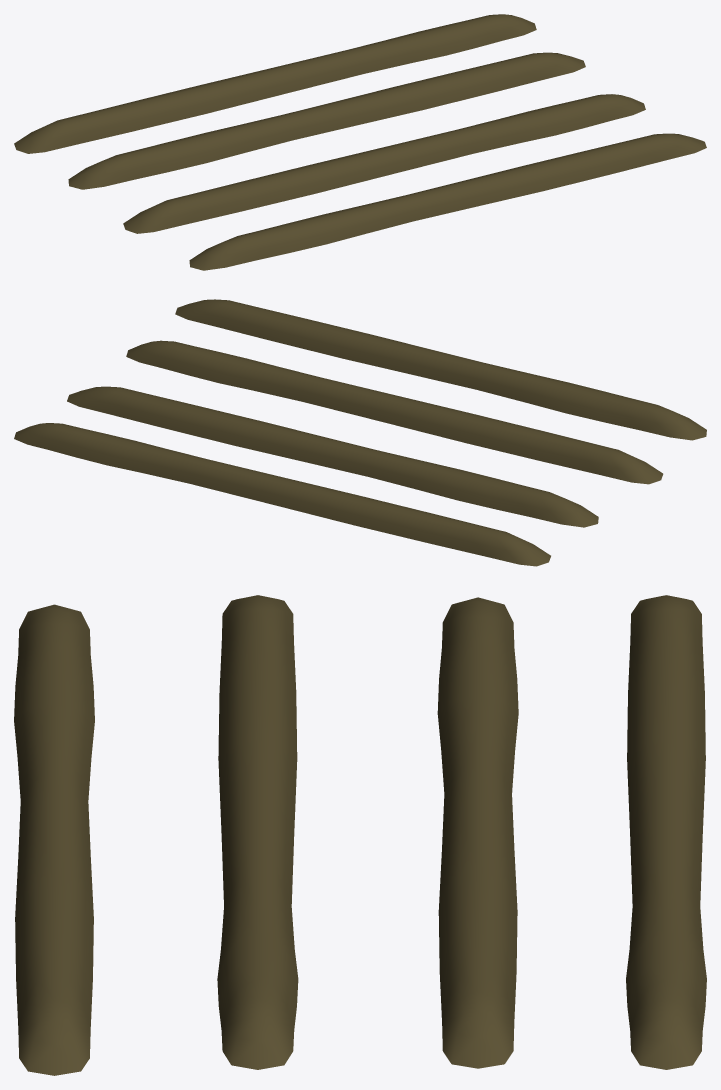
The model's file is quaternius-real-time-strategy-farm-first-age-level-2.glb.
3 views of the same model, one above another, from view 1: azimuth 30°, elevation 25°; view 2: azimuth 150°, elevation 25°; view 3: azimuth 270°, elevation 25° (orthographic). The views are drawn at different scales.
Parts seen in each view (by area): view 1: Farm_FirstAge_Level2; view 2: Farm_FirstAge_Level2; view 3: Farm_FirstAge_Level2.
Boxes of the visible parts, left/top/right/bottom form: Farm_FirstAge_Level2: left=14, top=14, right=706, bottom=270; Farm_FirstAge_Level2: left=14, top=299, right=706, bottom=566; Farm_FirstAge_Level2: left=14, top=595, right=706, bottom=1075.
Size of the model in its own units: 1.79 by 0.0564 by 1.09.
